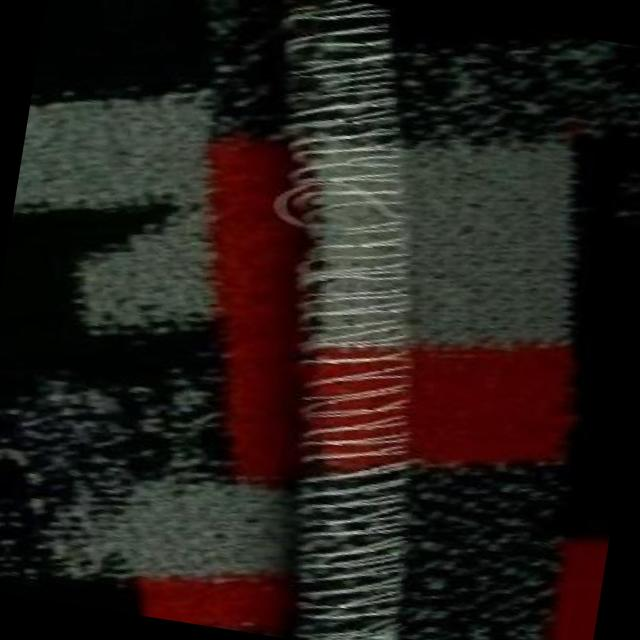gray stitch: (230, 0, 468, 399), (266, 380, 437, 640)
